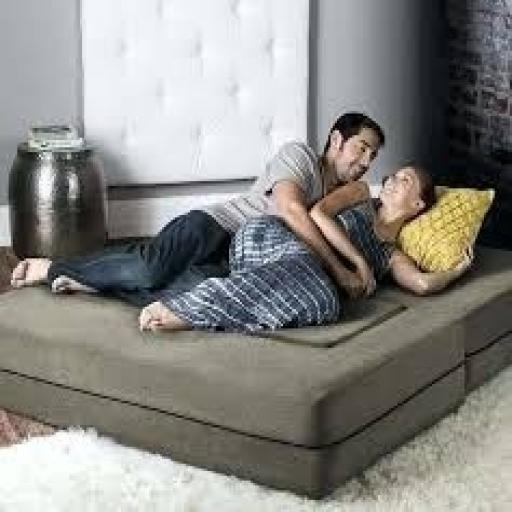sitting: (6, 104, 471, 338)
